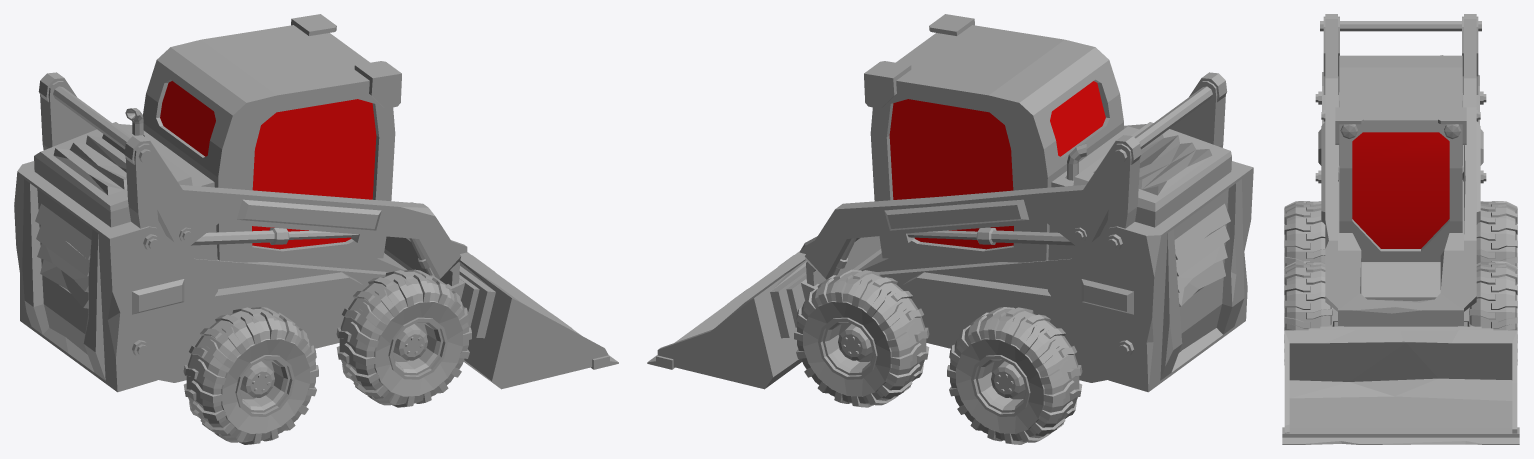
The model's file is SK_Veh_Mini_Loader_01.fbx.
3 renders of one model, left to right at view 1: azimuth 30°, elevation 25°; view 2: azimuth 150°, elevation 25°; view 3: azimuth 270°, elevation 25°, orthographic. The views are drawn at different scales.
Visible parts, largest first — view 1: SK_Veh_Mini_Loader_01, SK_Veh_Mini_Loader_01_Arm, SK_Veh_Mini_Loader_01_Wheel_fr, SK_Veh_Mini_Loader_01_Wheel_rr, SK_Veh_Mini_Loader_01_Glass, SK_Veh_Mini_Loader_01_Bucket; view 2: SK_Veh_Mini_Loader_01, SK_Veh_Mini_Loader_01_Arm, SK_Veh_Mini_Loader_01_Wheel_rl, SK_Veh_Mini_Loader_01_Wheel_fl, SK_Veh_Mini_Loader_01_Glass, SK_Veh_Mini_Loader_01_Bucket; view 3: SK_Veh_Mini_Loader_01_Bucket, SK_Veh_Mini_Loader_01, SK_Veh_Mini_Loader_01_Arm, SK_Veh_Mini_Loader_01_Glass, SK_Veh_Mini_Loader_01_Wheel_fr, SK_Veh_Mini_Loader_01_Wheel_fl, SK_Veh_Mini_Loader_01_Wheel_rr, SK_Veh_Mini_Loader_01_Wheel_rl.
Part boxes in pixels (x1=…): SK_Veh_Mini_Loader_01: x1=14, y1=14, x2=407, y2=392; SK_Veh_Mini_Loader_01_Arm: x1=38, y1=72, x2=461, y2=285; SK_Veh_Mini_Loader_01_Wheel_fr: x1=336, y1=269, x2=471, y2=407; SK_Veh_Mini_Loader_01_Wheel_rr: x1=183, y1=307, x2=318, y2=444; SK_Veh_Mini_Loader_01_Glass: x1=160, y1=81, x2=376, y2=249; SK_Veh_Mini_Loader_01_Bucket: x1=384, y1=240, x2=618, y2=389; SK_Veh_Mini_Loader_01: x1=858, y1=14, x2=1253, y2=392; SK_Veh_Mini_Loader_01_Arm: x1=804, y1=72, x2=1227, y2=285; SK_Veh_Mini_Loader_01_Wheel_rl: x1=947, y1=307, x2=1082, y2=444; SK_Veh_Mini_Loader_01_Wheel_fl: x1=794, y1=269, x2=929, y2=407; SK_Veh_Mini_Loader_01_Glass: x1=889, y1=81, x2=1105, y2=249; SK_Veh_Mini_Loader_01_Bucket: x1=647, y1=236, x2=881, y2=389; SK_Veh_Mini_Loader_01_Bucket: x1=1282, y1=322, x2=1519, y2=444; SK_Veh_Mini_Loader_01: x1=1315, y1=16, x2=1486, y2=326; SK_Veh_Mini_Loader_01_Arm: x1=1321, y1=14, x2=1480, y2=326; SK_Veh_Mini_Loader_01_Glass: x1=1352, y1=132, x2=1449, y2=248; SK_Veh_Mini_Loader_01_Wheel_fr: x1=1284, y1=261, x2=1332, y2=364; SK_Veh_Mini_Loader_01_Wheel_fl: x1=1469, y1=261, x2=1517, y2=364; SK_Veh_Mini_Loader_01_Wheel_rr: x1=1284, y1=201, x2=1325, y2=267; SK_Veh_Mini_Loader_01_Wheel_rl: x1=1476, y1=201, x2=1517, y2=267.
Size of the model in its own units: 433 by 270 by 226.
